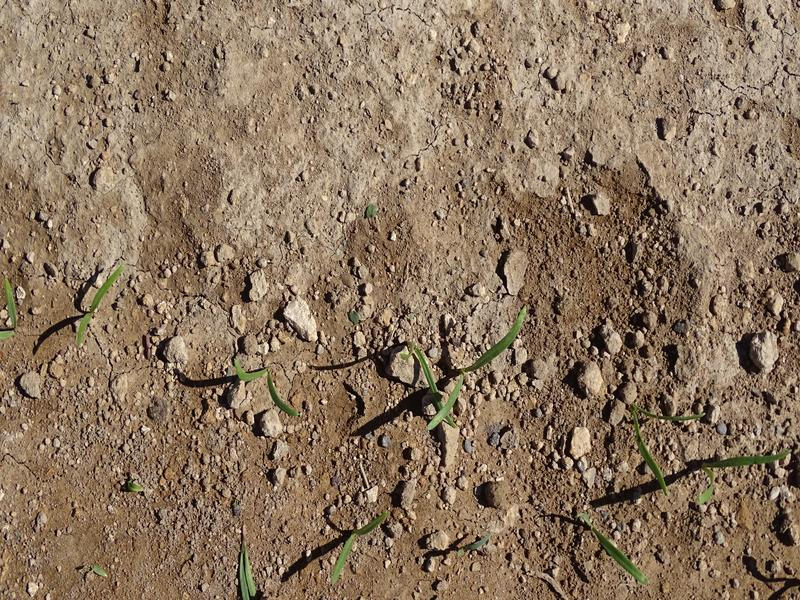Espinaca: (422, 305, 533, 435), (615, 392, 689, 500), (574, 510, 654, 587), (62, 261, 127, 351), (222, 357, 302, 420), (322, 508, 391, 581), (693, 437, 791, 472)
